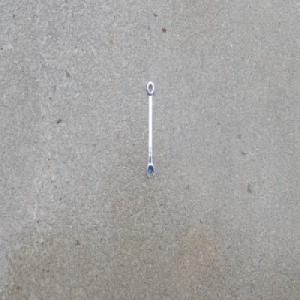Wrench: (146, 80, 155, 178)
